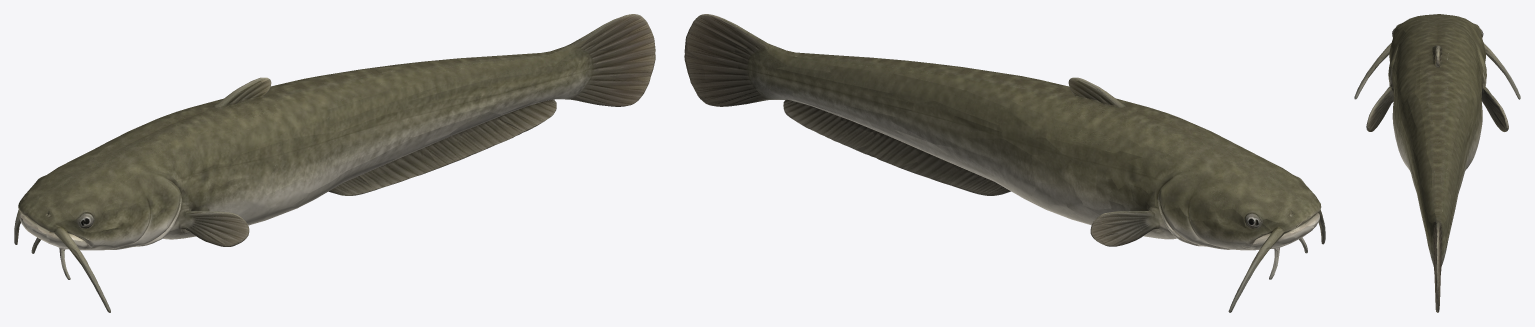
The model's file is fishCatfish.glb.
The picture shows the model from 3 angles, left to right: view 1: azimuth 30°, elevation 25°; view 2: azimuth 150°, elevation 25°; view 3: azimuth 270°, elevation 25°; orthographic projection. The views are drawn at different scales.
Parts seen in each view (by area): view 1: Mesh_0; view 2: Mesh_0; view 3: Mesh_0.
Boxes of the visible parts, x1,y1,x2,y2 form: Mesh_0: [14, 14, 655, 312]; Mesh_0: [684, 14, 1325, 312]; Mesh_0: [1354, 14, 1520, 312].
Bounding box in the file's own units: 0.45 × 0.1042 × 0.1172.
1 material, 1 textured.
